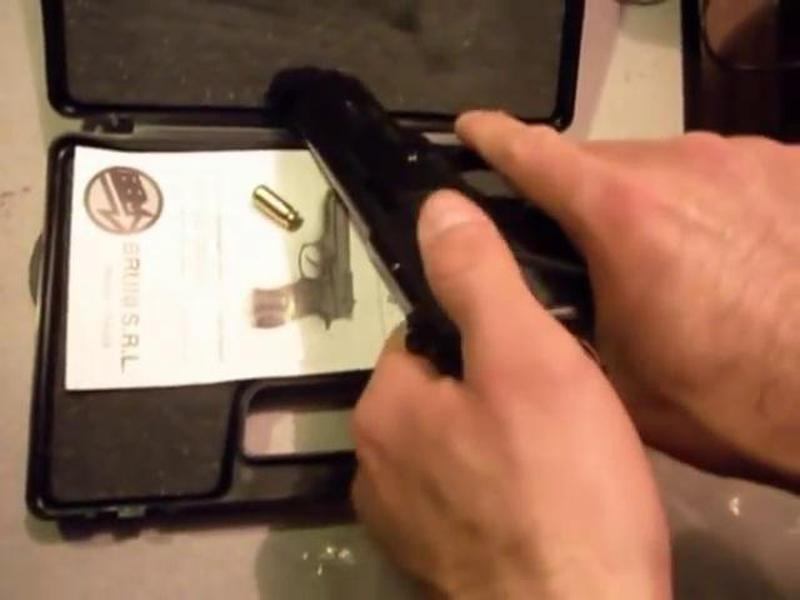Pistola: (257, 48, 629, 444)
